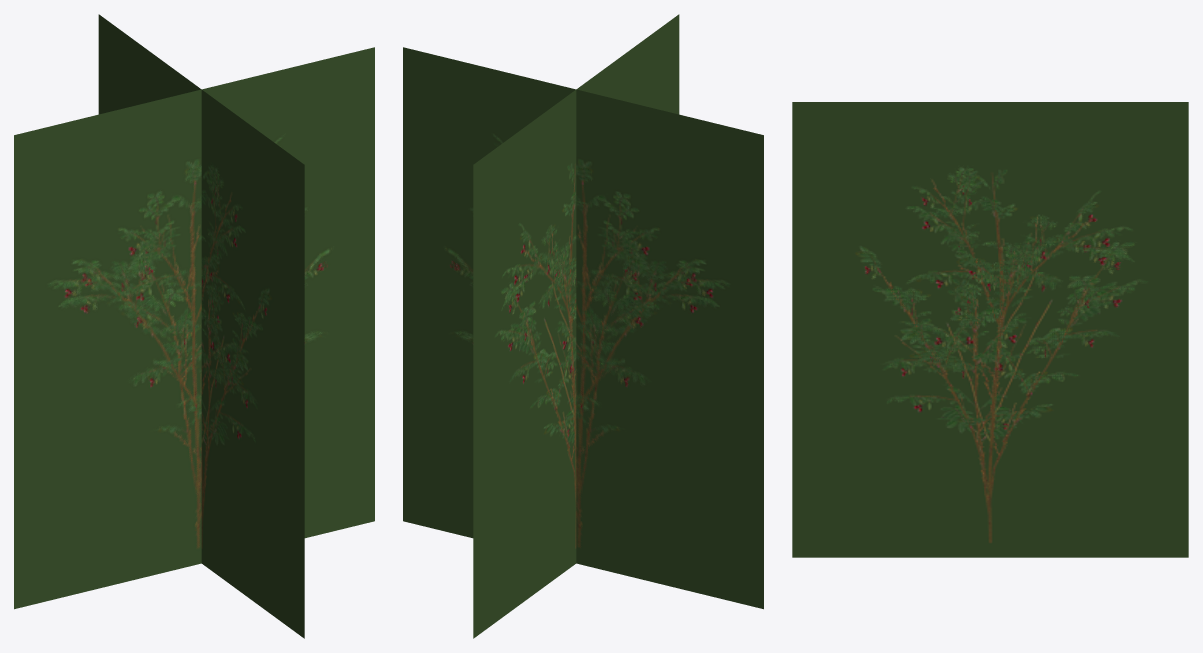
The model's file is Wildrose2_LOD3.fbx.
The picture shows the model from 3 angles, left to right: view 1: azimuth 30°, elevation 25°; view 2: azimuth 150°, elevation 25°; view 3: azimuth 270°, elevation 25°; orthographic projection. The views are drawn at different scales.
Visible parts, largest first — view 1: polySurface90; view 2: polySurface90; view 3: polySurface90.
Part boxes in pixels (bbox=[...]): polySurface90: bbox=[14, 14, 374, 638]; polySurface90: bbox=[403, 14, 763, 638]; polySurface90: bbox=[792, 102, 1188, 557].
Bounding box in the file's own units: 237 × 297 × 234.
